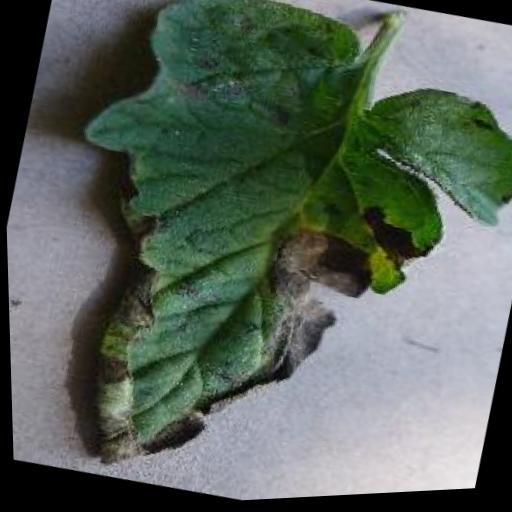Early Blight: (7, 0, 512, 512)
